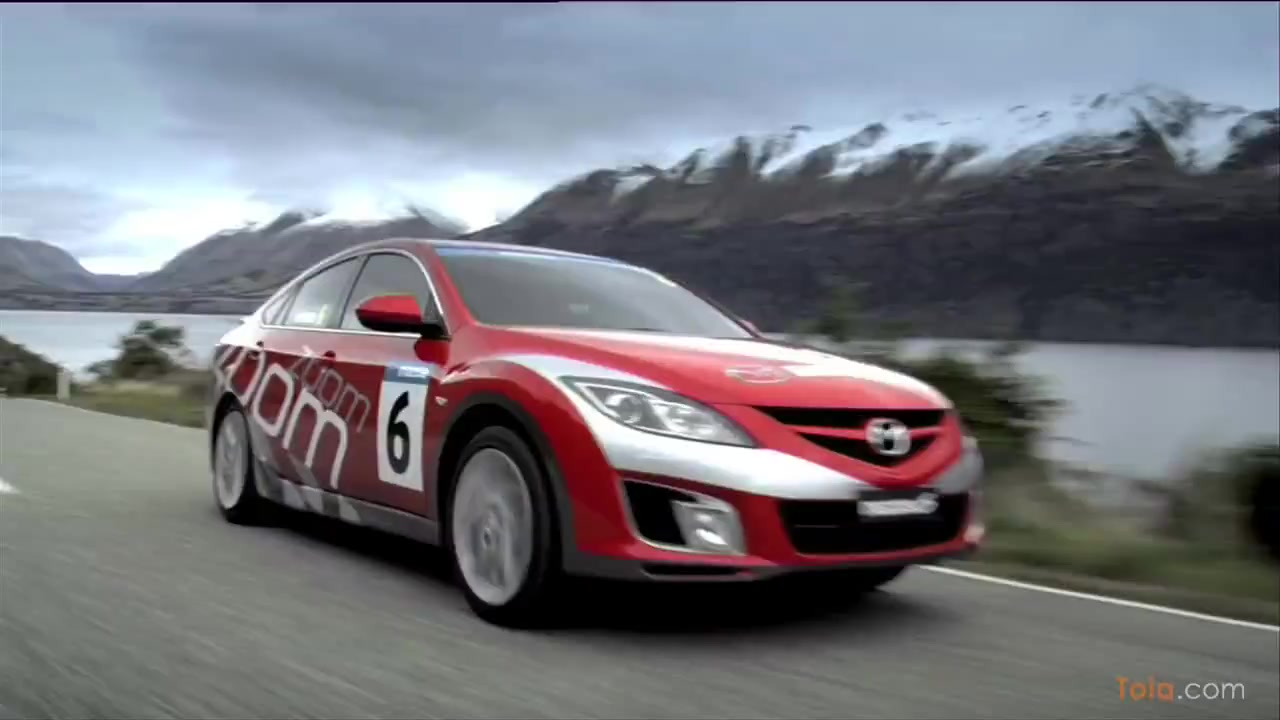car: (201, 237, 992, 633)
